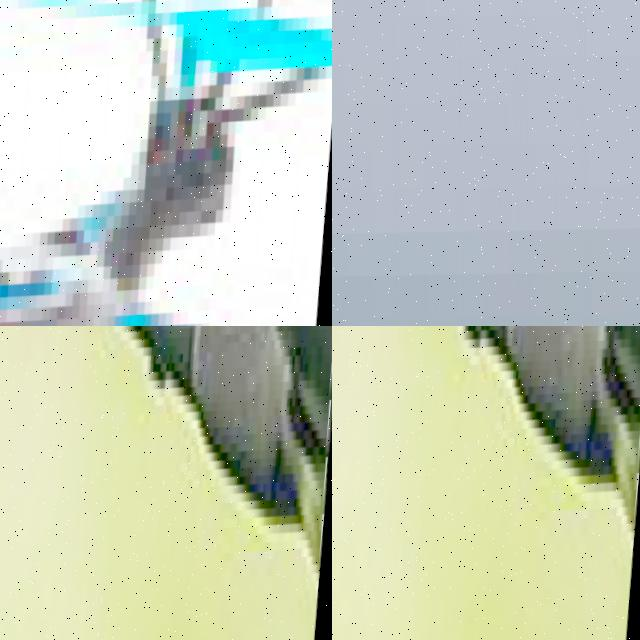drone: (0, 0, 332, 326), (0, 326, 332, 640), (332, 326, 640, 640)
